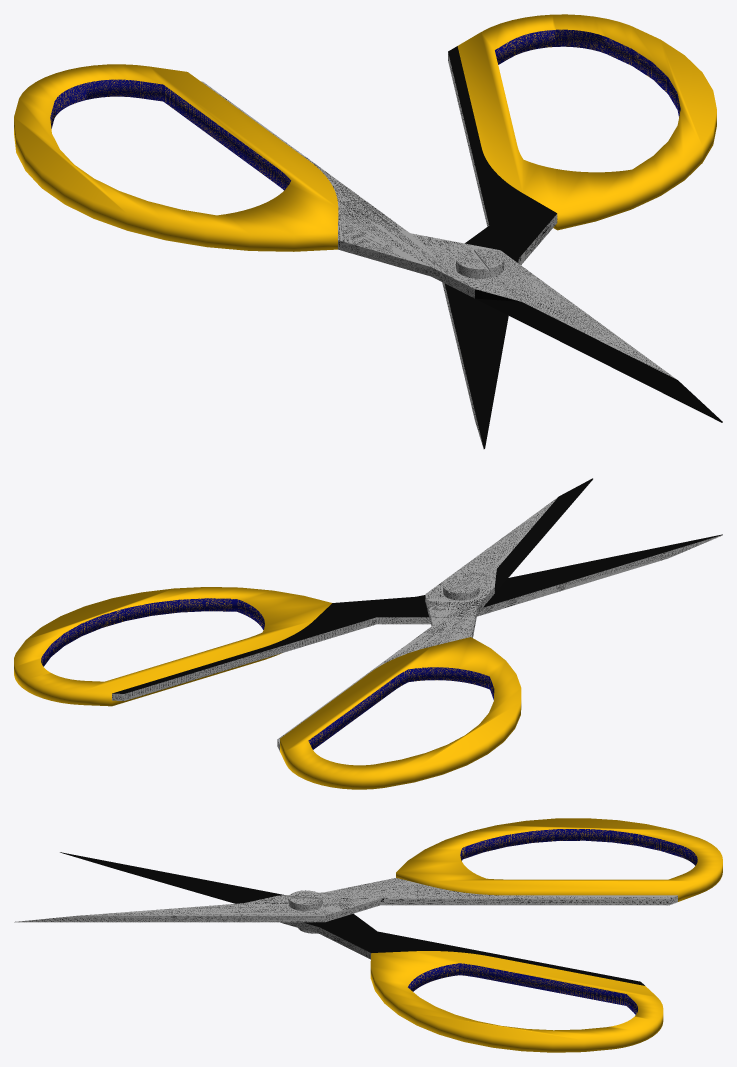
Rendered from scissors_07_origin_gt_1.dae.
3 renders of one model, top to bottom at view 1: azimuth 30°, elevation 25°; view 2: azimuth 150°, elevation 25°; view 3: azimuth 270°, elevation 25°, orthographic. The views are drawn at different scales.
Parts seen in each view (by area): view 1: Component_1 (×9); view 2: Component_1 (×9); view 3: Component_1 (×8).
Part boxes in pixels (x1=…): Component_1 (×9): x1=14, y1=14, x2=722, y2=448; Component_1 (×9): x1=14, y1=478, x2=722, y2=789; Component_1 (×8): x1=14, y1=818, x2=722, y2=1052.
Bounding box in the file's own units: 5.57 × 7.92 × 0.3264.
